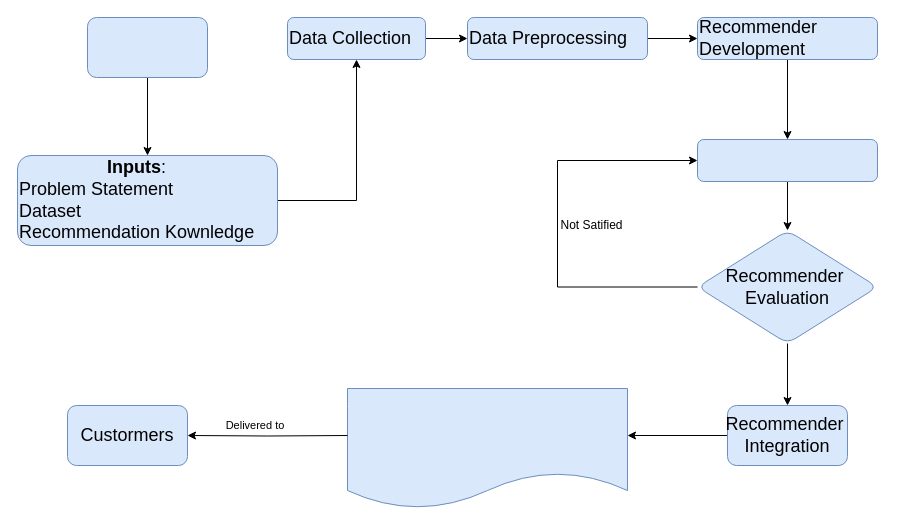
Some shapes in this 897 by 526 pixel diagram are drawn without their labels. The box of each missing label's shape, as (x1, y1, x2, y2) in pixels:
Integrated System, Testing recommendation results, Product Documentation: (346, 388, 628, 508)
Recommender Testing and Optimization: (696, 138, 878, 182)
Suppliers: (86, 16, 208, 78)
